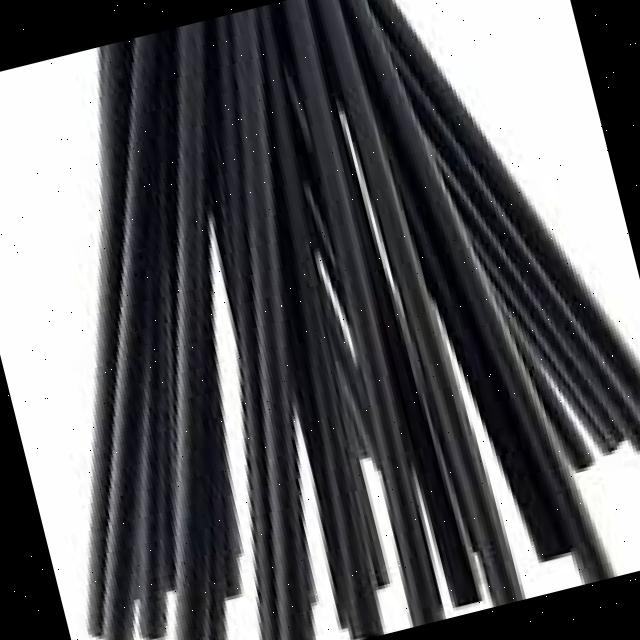plastic: (455, 0, 640, 559)
